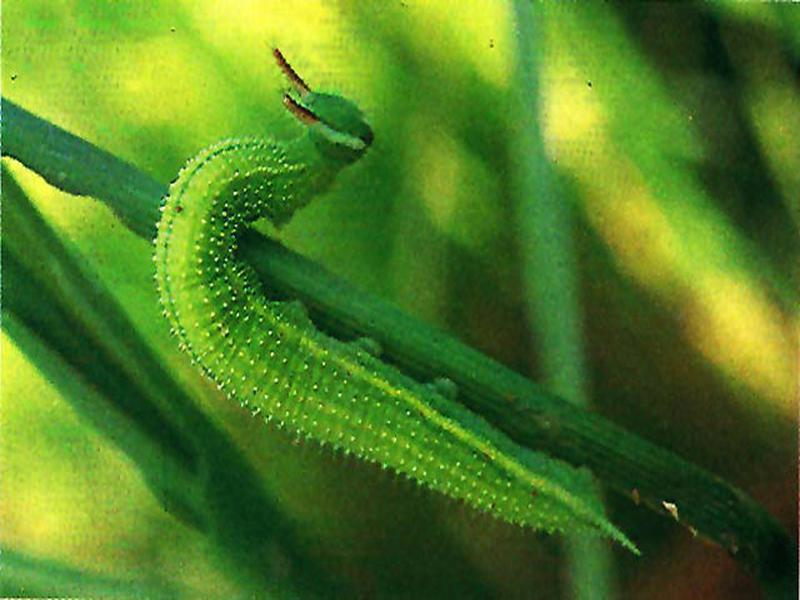Rice_horned_caterpillar: (135, 59, 667, 569)
